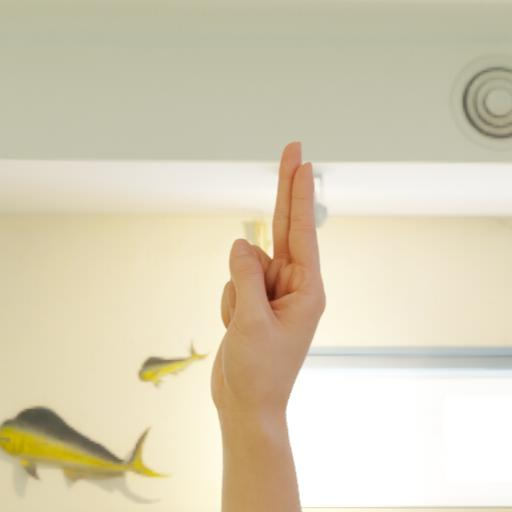U: (209, 126, 337, 512)
